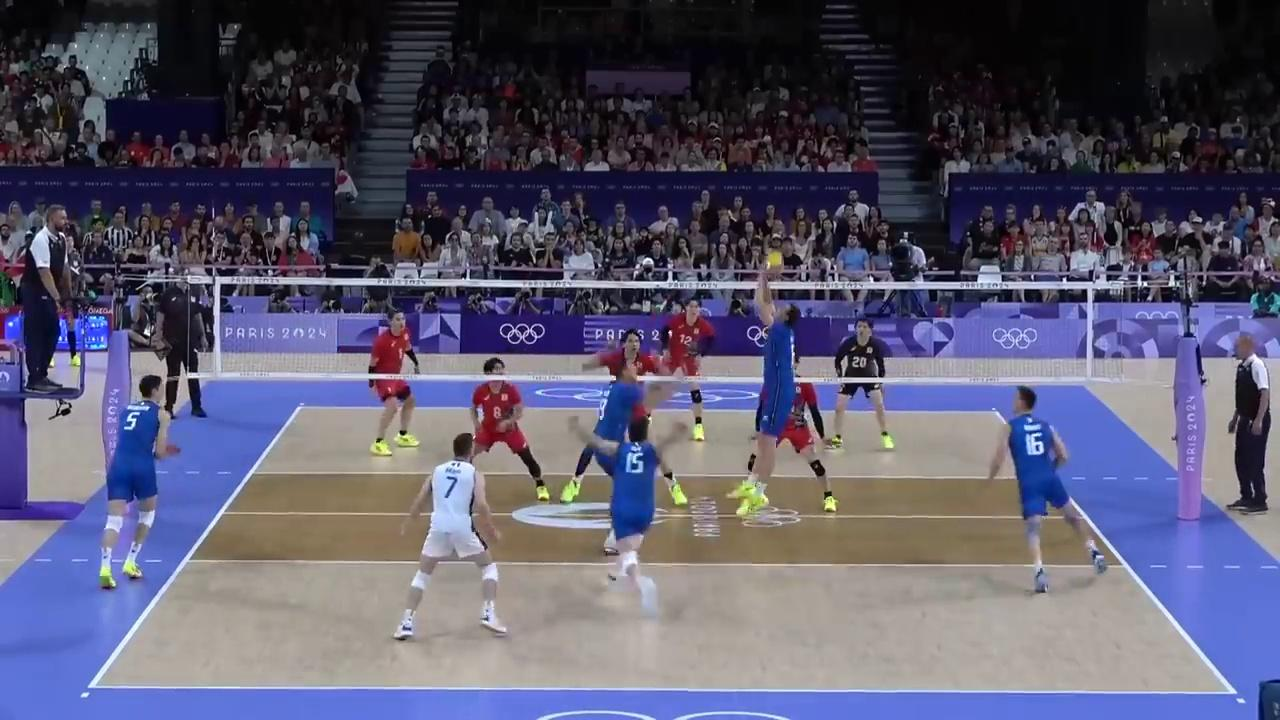ball: (767, 249, 783, 267)
